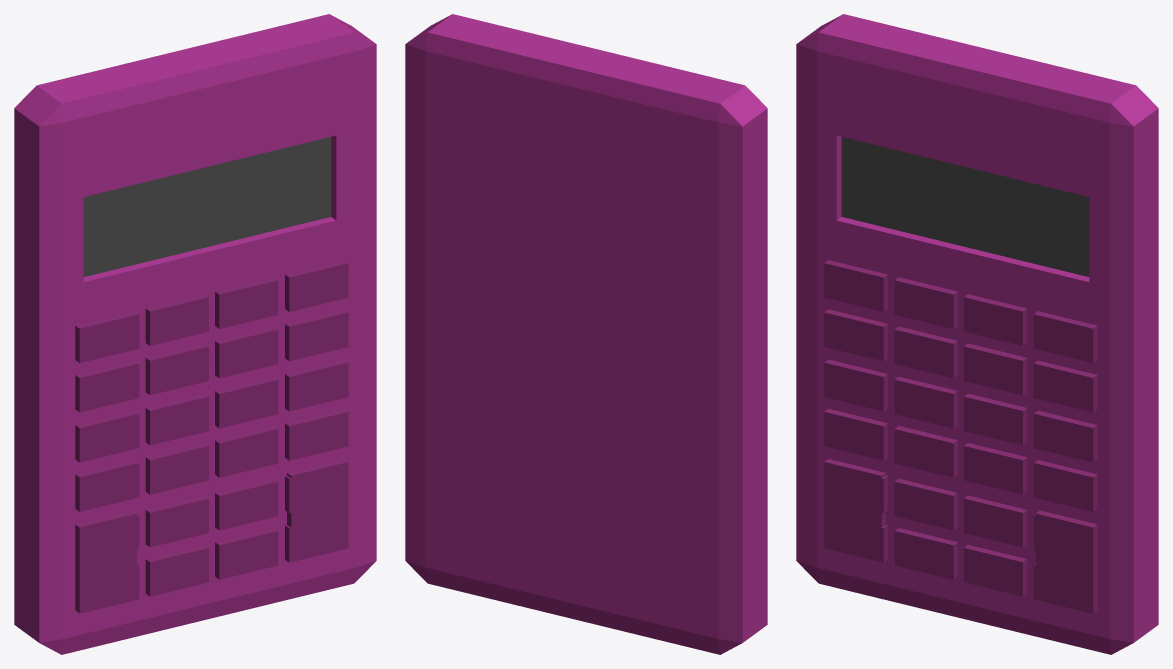
The model's file is pink-calculator.fbx.
3 renders of one model, left to right at view 1: azimuth 30°, elevation 25°; view 2: azimuth 150°, elevation 25°; view 3: azimuth 330°, elevation 25°, orthographic.
Parts seen in each view (by area): view 1: body; view 2: body; view 3: body.
Boxes of the visible parts, x1=… form: body: x1=14, y1=14, x2=376, y2=654; body: x1=405, y1=14, x2=767, y2=654; body: x1=796, y1=14, x2=1158, y2=654.
Size of the model in its own units: 127 by 198 by 21.65.
1 material, 1 textured.
